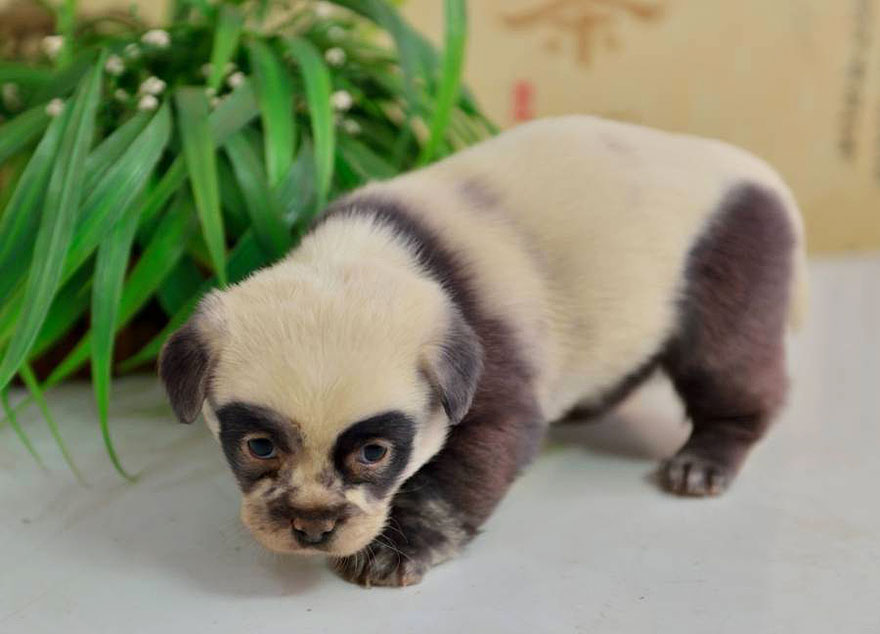dog: (145, 110, 827, 580)
